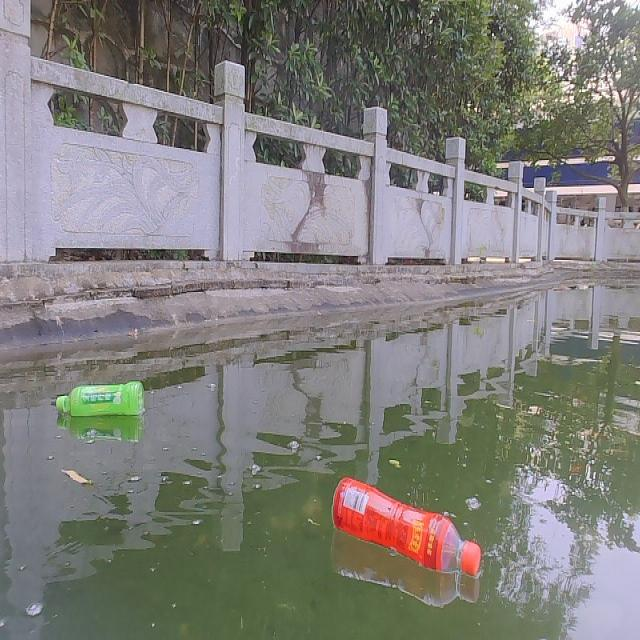Bottle: (324, 472, 486, 580), (52, 377, 144, 419)
